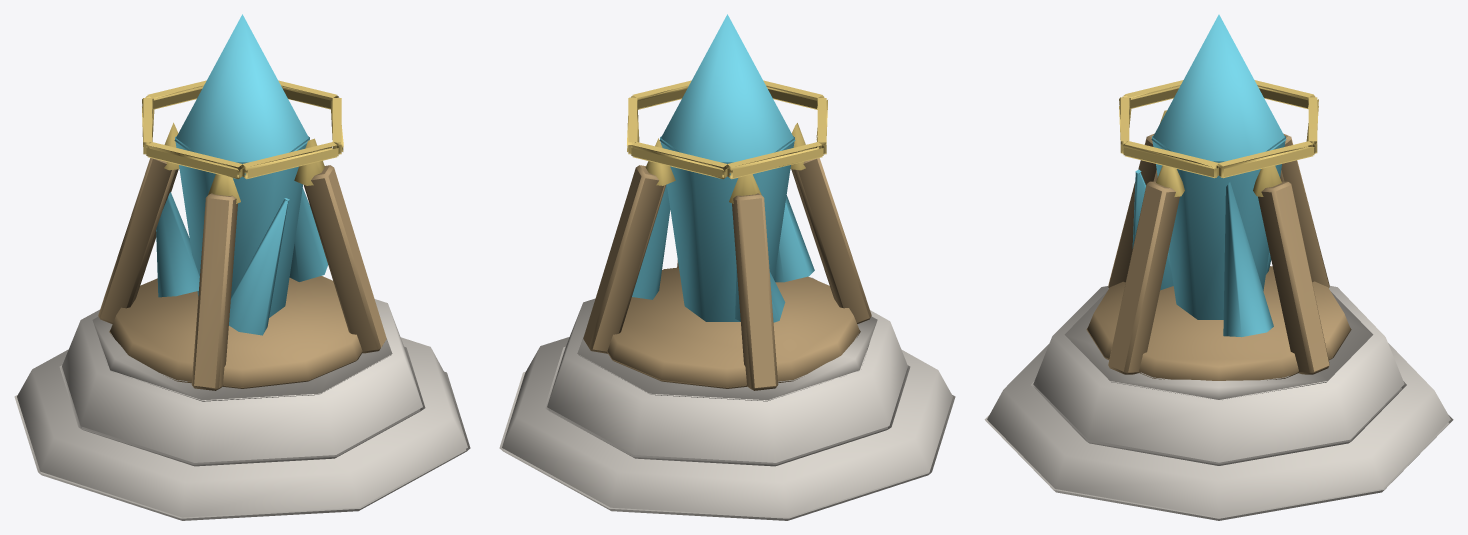
Rendered from arcane_pylon_lod1.glb.
3 views of the same model, side by side, from view 1: azimuth 30°, elevation 25°; view 2: azimuth 150°, elevation 25°; view 3: azimuth 270°, elevation 25° (orthographic).
Parts seen in each view (by area): view 1: arcane_pylon.001; view 2: arcane_pylon.001; view 3: arcane_pylon.001.
Part boxes in pixels (x1=…): arcane_pylon.001: x1=14, y1=14, x2=470, y2=520; arcane_pylon.001: x1=499, y1=14, x2=955, y2=520; arcane_pylon.001: x1=984, y1=14, x2=1453, y2=520.
Bounding box in the file's own units: 2.68 × 2.58 × 2.68.
